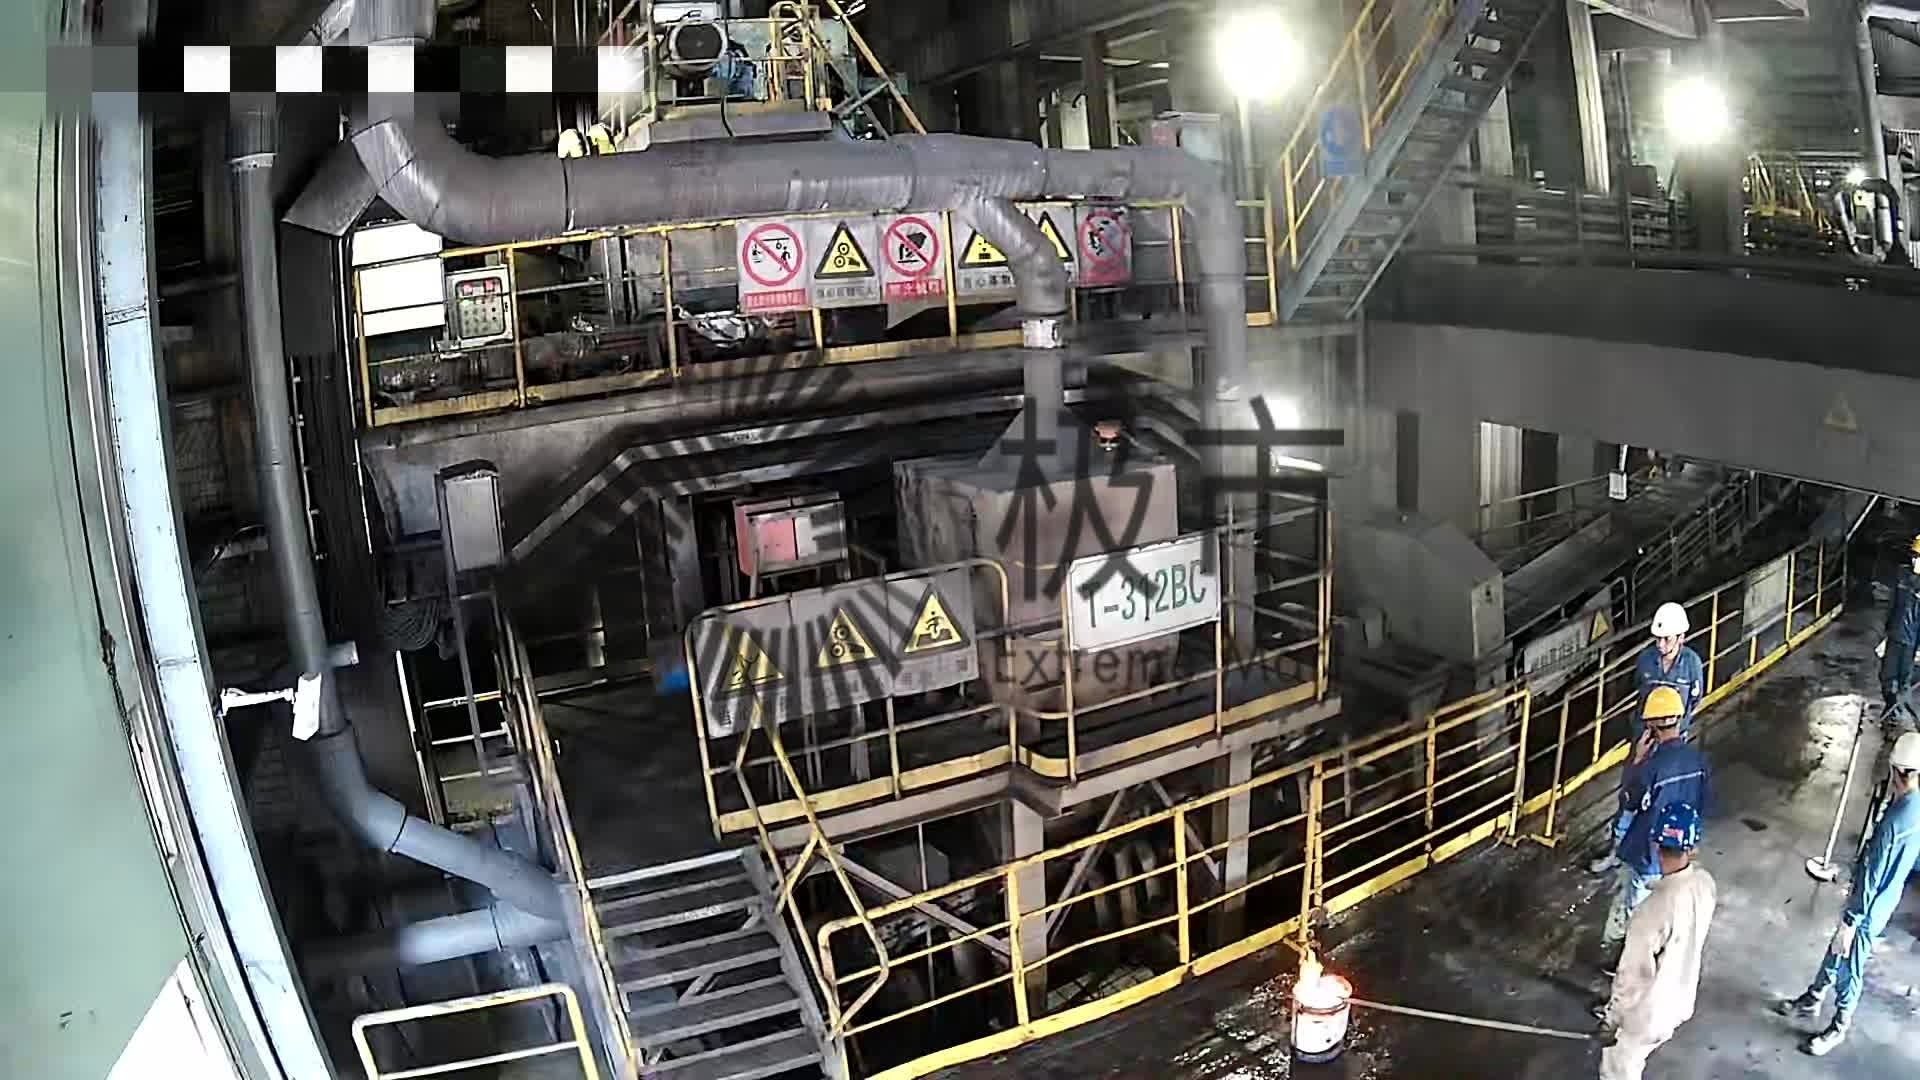fire: (1288, 942, 1352, 1013)
